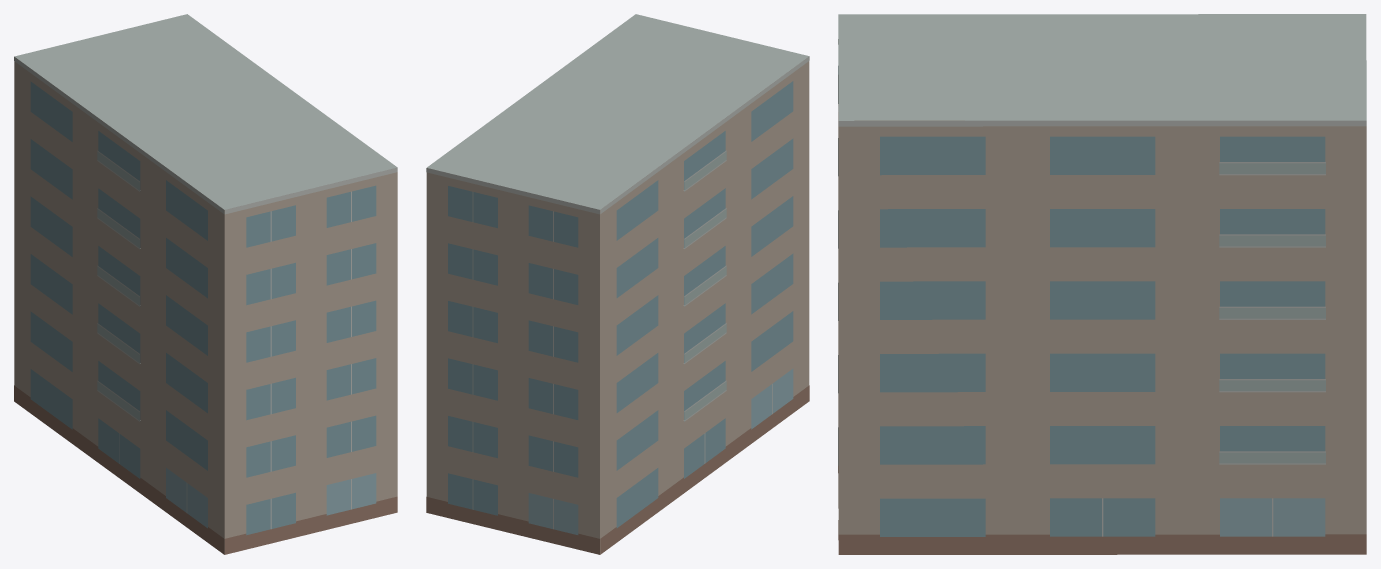
Rendered from survey-upis-32701346.glb.
The picture shows the model from 3 angles, left to right: view 1: azimuth 30°, elevation 25°; view 2: azimuth 150°, elevation 25°; view 3: azimuth 270°, elevation 25°; orthographic projection. The views are drawn at different scales.
Parts seen in each view (by area): view 1: survey-upis-32701346.tmp; view 2: survey-upis-32701346.tmp; view 3: survey-upis-32701346.tmp.
Boxes of the visible parts, bbox=[...] form: survey-upis-32701346.tmp: bbox=[14, 14, 397, 554]; survey-upis-32701346.tmp: bbox=[426, 14, 809, 554]; survey-upis-32701346.tmp: bbox=[838, 14, 1366, 554].
Bounding box in the file's own units: 9.73 × 18.35 × 20.26.
